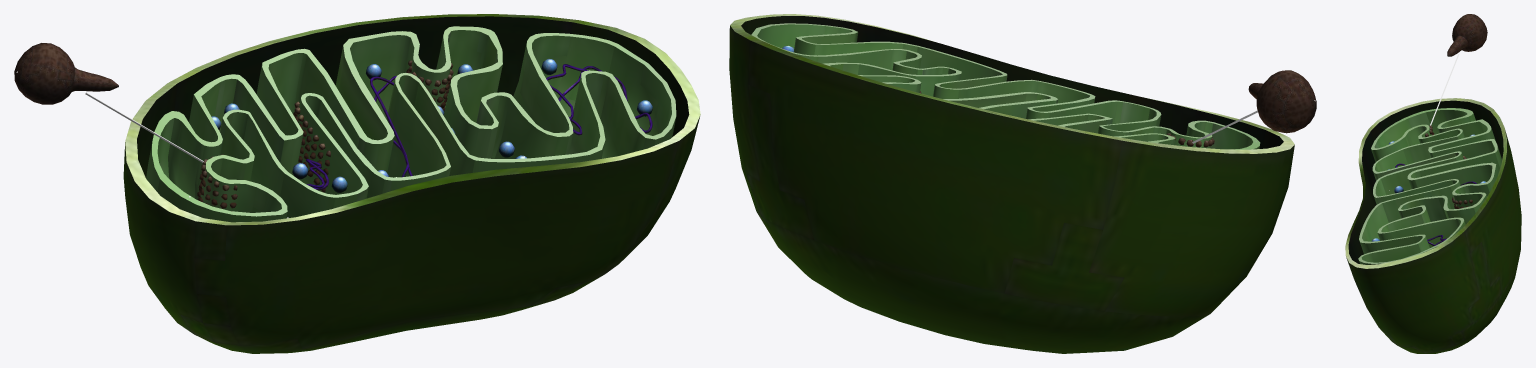
File: mitocondrias.glb
The picture shows the model from 3 angles, left to right: view 1: azimuth 30°, elevation 25°; view 2: azimuth 150°, elevation 25°; view 3: azimuth 270°, elevation 25°; orthographic projection. The views are drawn at different scales.
Parts seen in each view (by area): view 1: Object_6, Object_7, Object_11, Object_9, Object_10, Object_8; view 2: Object_6, Object_7, Object_11; view 3: Object_6, Object_7, Object_11, Object_9, Object_10.
Boxes of the visible parts, x1,y1,x2,y2 form: Object_6: [123, 14, 700, 353]; Object_7: [146, 26, 676, 222]; Object_11: [14, 43, 118, 104]; Object_9: [197, 58, 453, 211]; Object_10: [306, 64, 652, 190]; Object_8: [211, 59, 652, 192]; Object_6: [729, 14, 1294, 353]; Object_7: [751, 23, 1260, 149]; Object_11: [1248, 70, 1316, 133]; Object_6: [1345, 98, 1521, 353]; Object_7: [1358, 108, 1502, 264]; Object_11: [1447, 14, 1487, 56]; Object_9: [1425, 125, 1472, 208]; Object_10: [1395, 163, 1476, 245].
Bounding box in the file's own units: 0.777 × 0.419 × 0.3236.
7 materials, 6 textured.
